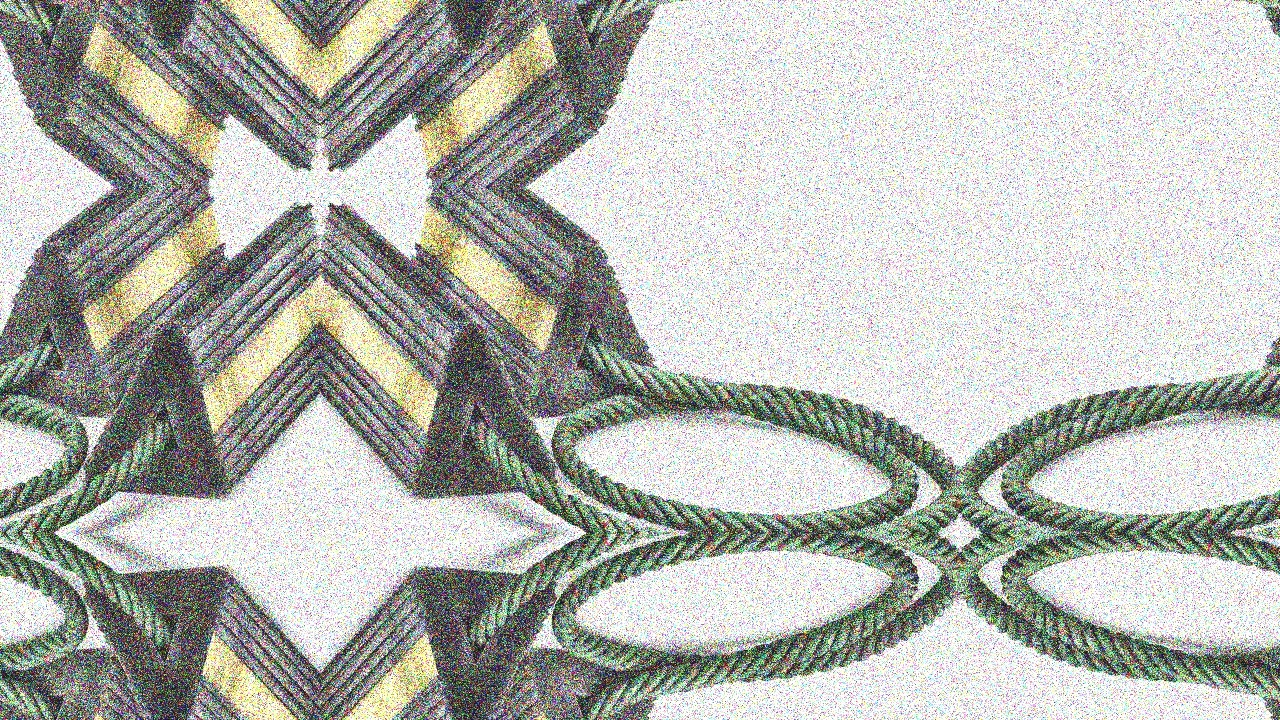chock: (20, 187, 320, 516), (320, 187, 620, 516), (352, 187, 725, 436), (0, 187, 288, 436), (352, 0, 725, 187), (20, 0, 320, 187), (320, 0, 620, 187), (0, 0, 288, 187), (20, 550, 320, 720), (320, 550, 620, 720), (352, 630, 725, 720), (0, 630, 288, 720), (1195, 187, 1280, 436), (1195, 0, 1280, 187), (1195, 630, 1280, 720)
